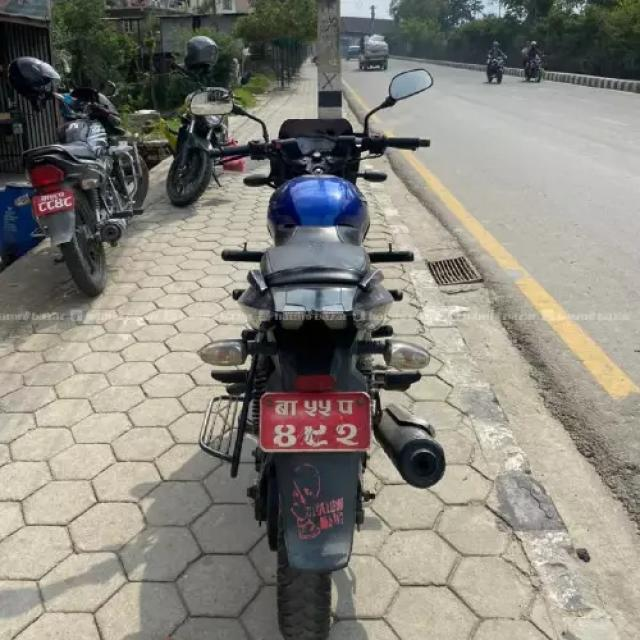License-plate: (256, 386, 371, 455), (29, 187, 82, 220)
